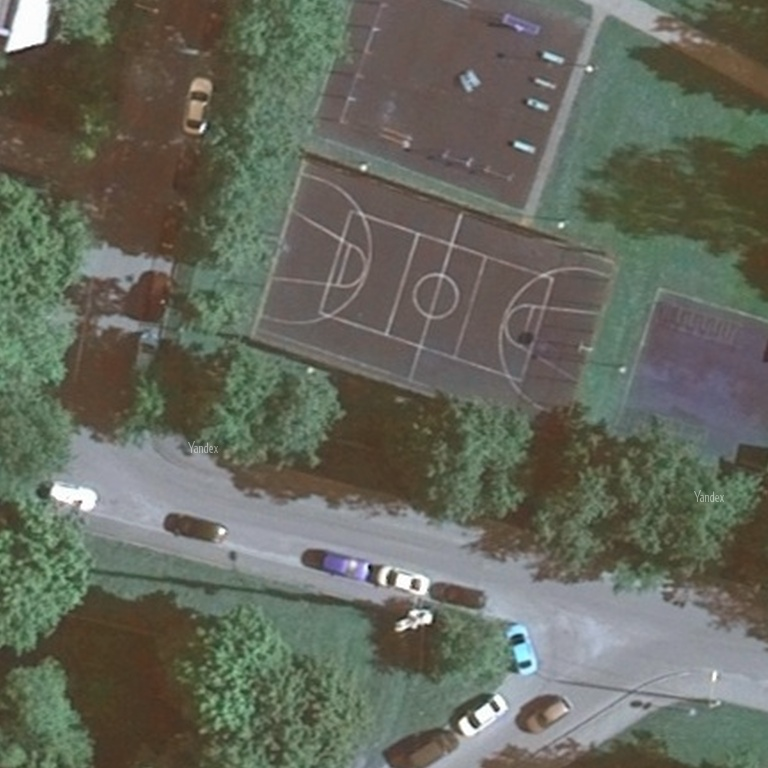basket_court: (235, 139, 626, 448)
